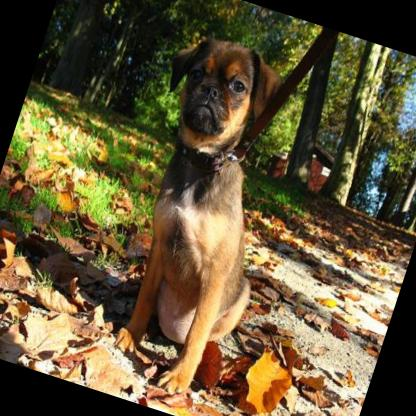Brabancon_griffon: (73, 26, 324, 411)
